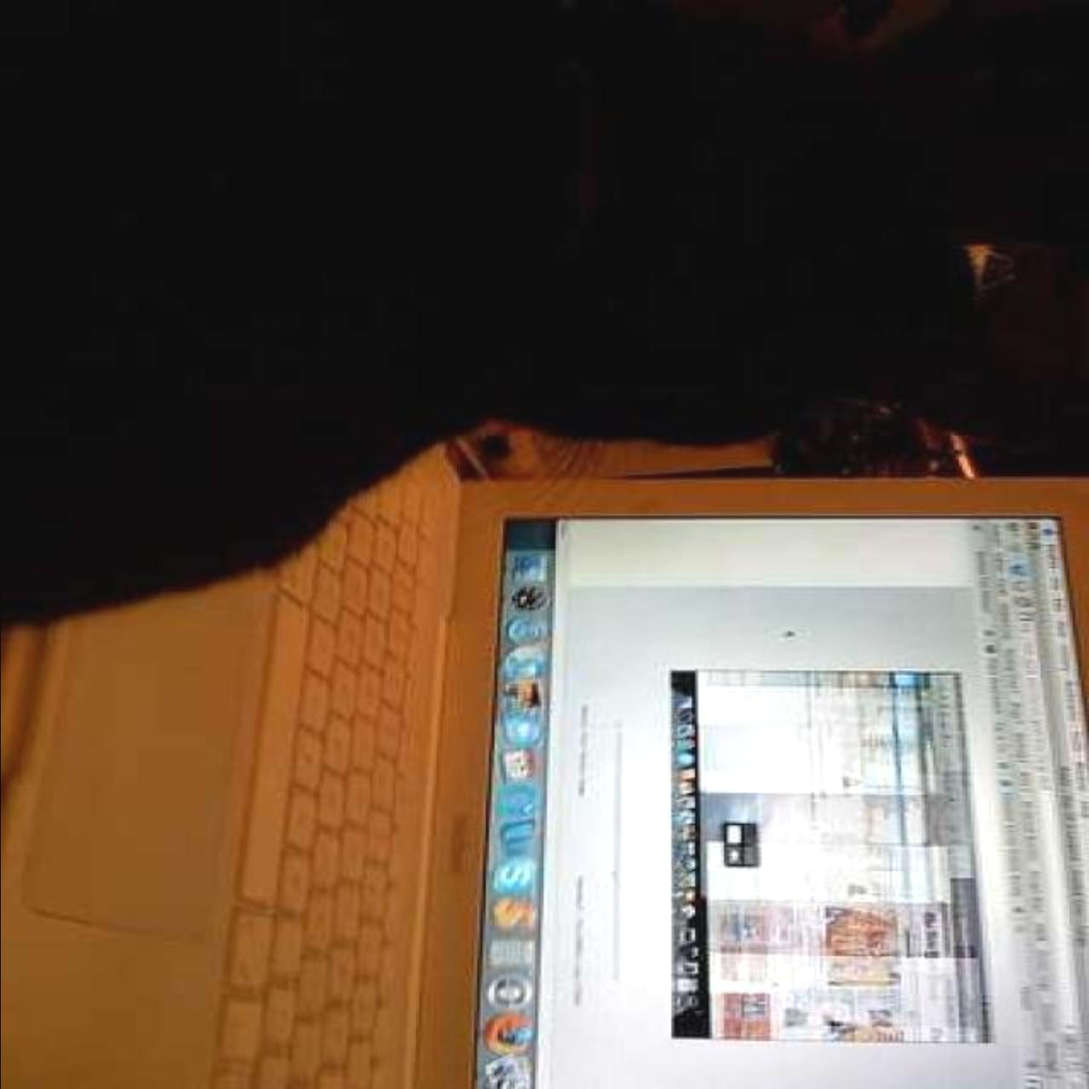laptop: (31, 482, 1069, 1077)
